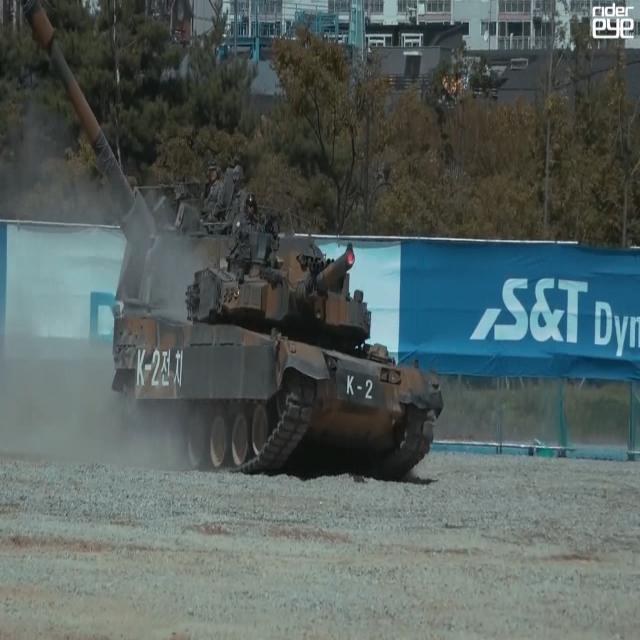korea tank: (111, 194, 443, 476)
